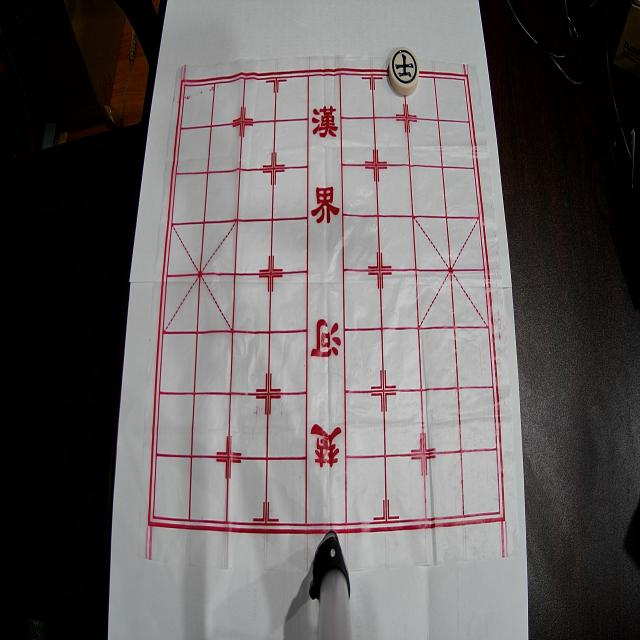black-guard: (389, 47, 419, 95)
